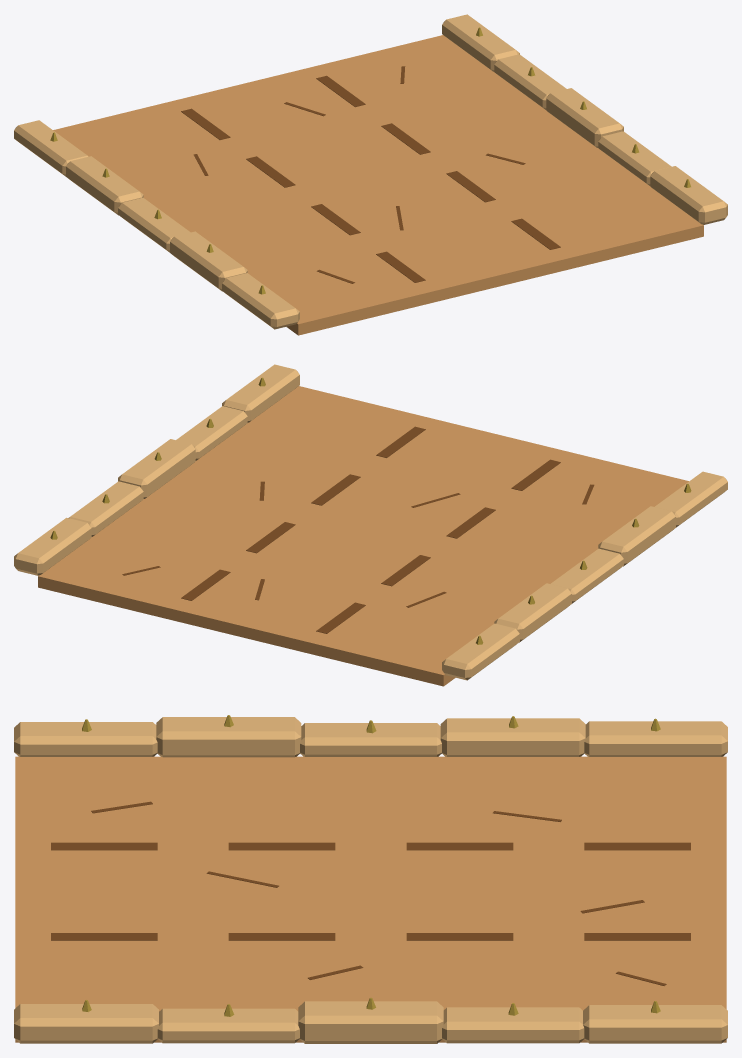
File: Savanna_Road_10m.fbx
3 views of the same model, one above another, from view 1: azimuth 30°, elevation 25°; view 2: azimuth 150°, elevation 25°; view 3: azimuth 270°, elevation 25° (orthographic). The views are drawn at different scales.
Parts seen in each view (by area): view 1: Savanna_Road_10m; view 2: Savanna_Road_10m; view 3: Savanna_Road_10m.
Part boxes in pixels (x1,y1,x2,y2): Savanna_Road_10m: (14,14,727,335); Savanna_Road_10m: (14,364,727,686); Savanna_Road_10m: (14,715,727,1043).
Size of the model in its own units: 10.15 by 0.7908 by 10.04.
